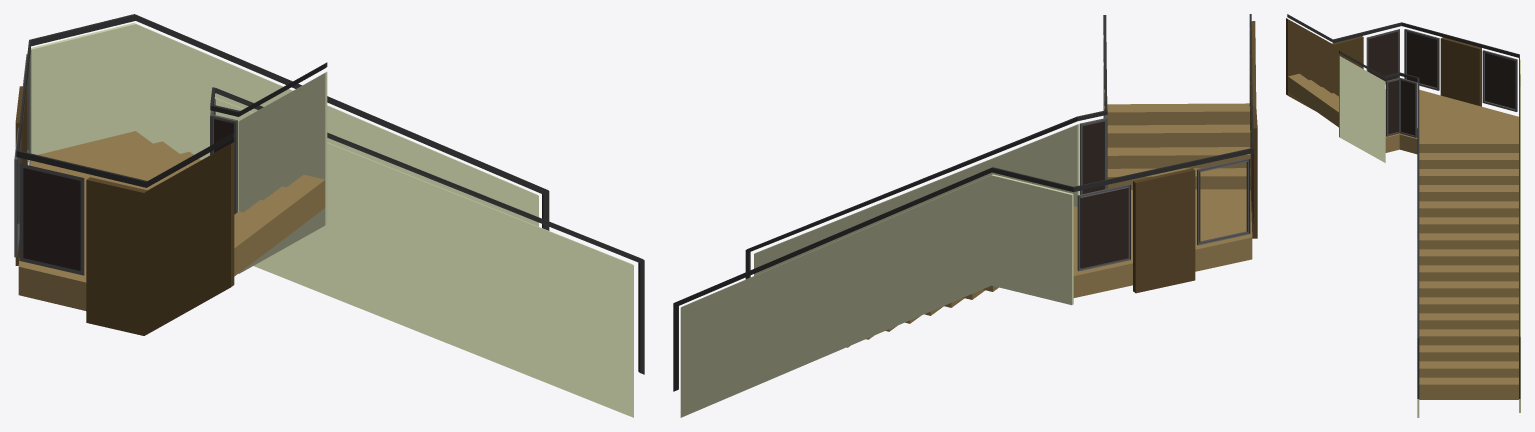
The model's file is forum_stairs.fbx.
3 renders of one model, left to right at view 1: azimuth 30°, elevation 25°; view 2: azimuth 150°, elevation 25°; view 3: azimuth 270°, elevation 25°, orthographic. The views are drawn at different scales.
Parts seen in each view (by area): view 1: Stairs.001, Stairs.004, Stairs.007, Stairs.003, Stairs.005, Stairs.021, Stairs.008, Stairs.006, Stairs.002; view 2: Stairs.004, Stairs.003, Stairs.007, Stairs.001, Stairs.005, Stairs.021, Stairs.008, Stairs.006, Stairs.020, Stairs.002; view 3: Stairs.003, Stairs.007, Stairs.021, Stairs.001, Stairs.005, Stairs.020, Stairs.008, Stairs.006, Stairs.002, Stairs.004.
Boxes of the visible parts, x1,y1,x2,y2 form: Stairs.001: (214, 72, 633, 417); Stairs.004: (29, 23, 538, 226); Stairs.007: (15, 86, 234, 335); Stairs.003: (18, 131, 325, 310); Stairs.005: (16, 14, 549, 230); Stairs.021: (17, 160, 80, 270); Stairs.008: (210, 62, 644, 374); Stairs.006: (14, 54, 84, 275); Stairs.002: (210, 99, 237, 214); Stairs.004: (680, 174, 1073, 417); Stairs.003: (847, 103, 1252, 347); Stairs.007: (1133, 21, 1257, 293); Stairs.001: (754, 35, 1104, 275); Stairs.005: (673, 14, 1253, 391); Stairs.021: (1081, 153, 1253, 268); Stairs.008: (745, 15, 1107, 279); Stairs.006: (1077, 153, 1253, 271); Stairs.020: (1082, 121, 1104, 193); Stairs.002: (1079, 109, 1107, 194); Stairs.003: (1288, 73, 1518, 399); Stairs.007: (1286, 18, 1481, 110); Stairs.021: (1368, 31, 1515, 108); Stairs.001: (1339, 56, 1419, 417); Stairs.005: (1287, 14, 1520, 398); Stairs.020: (1388, 80, 1414, 135); Stairs.008: (1339, 51, 1419, 398); Stairs.006: (1366, 29, 1517, 111); Stairs.002: (1386, 77, 1417, 137); Stairs.004: (1519, 59, 1520, 412).
Size of the model in its own units: 5.98 by 4.45 by 3.54.
